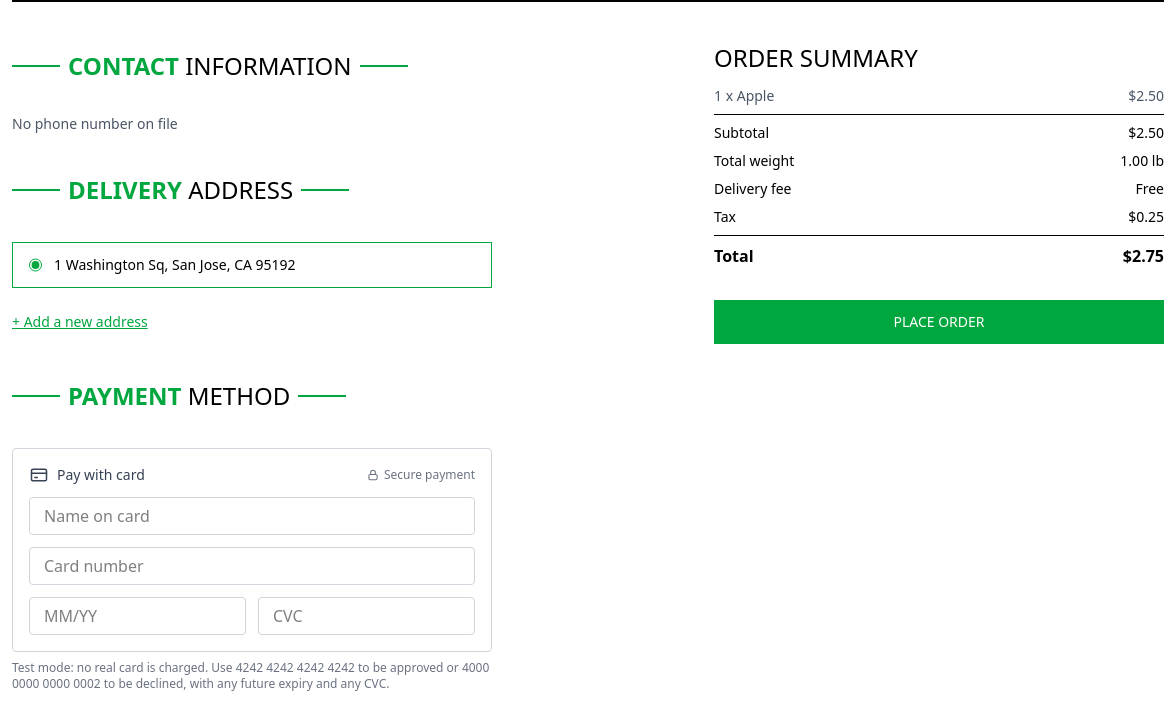
Scenario: Checkout › saving a new address handles rejection=false
The image size is (1176, 720).
Expected: the button "PLACE ORDER" is enabled, [714,300,1164,344]
Click the button "+ Add a new address".
click(80, 322)  # box [12,312,148,332]
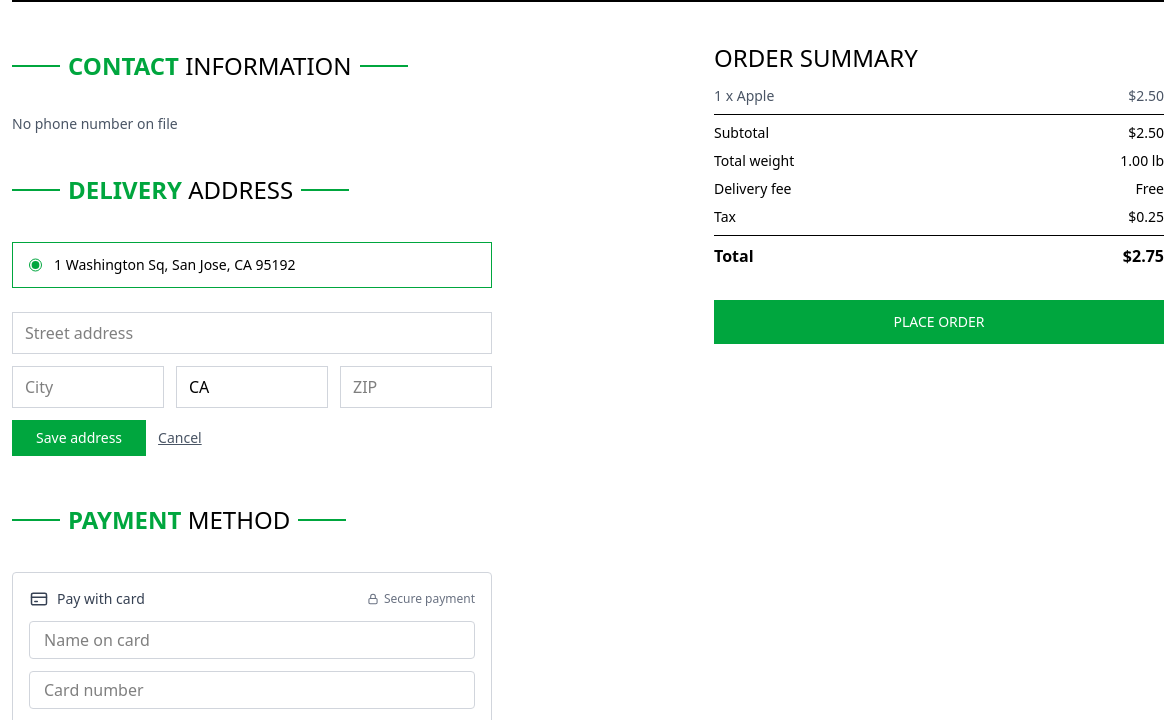
Type "123 Main St" into the field with placeholder "Street address".
click(252, 333); type("123 Main St")  # box [12,312,492,354]
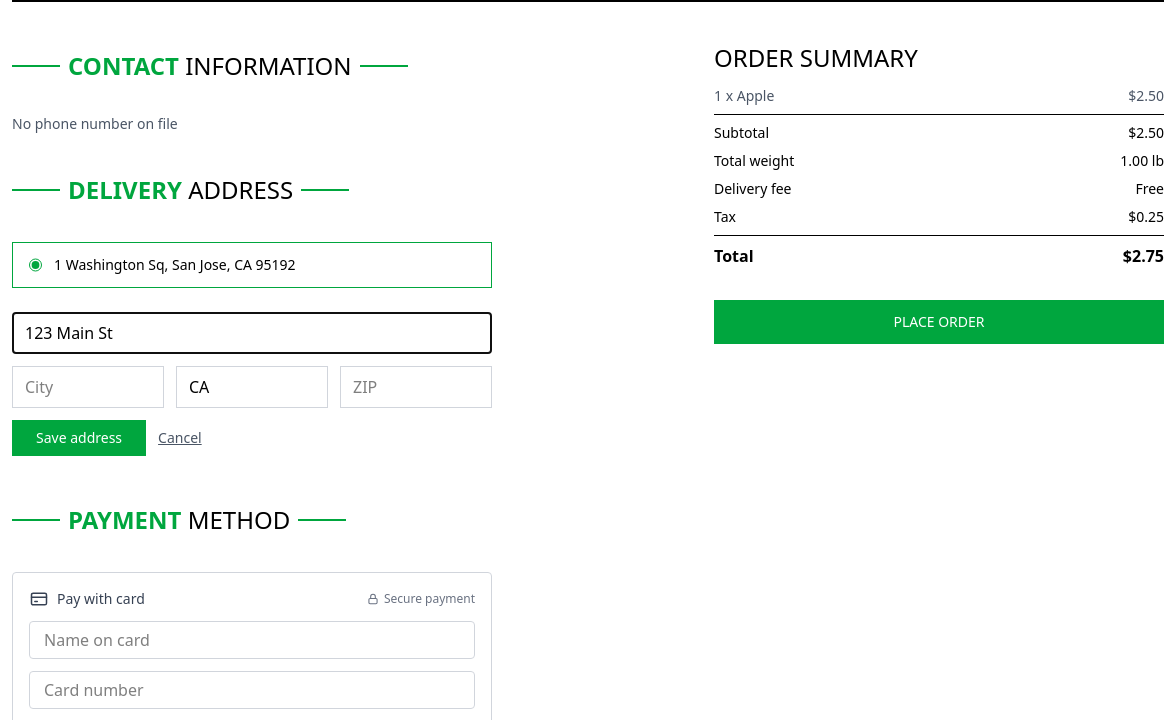
Type "San Jose" into the field with placeholder "City".
click(88, 387); type("San Jose")  # box [12,366,164,408]
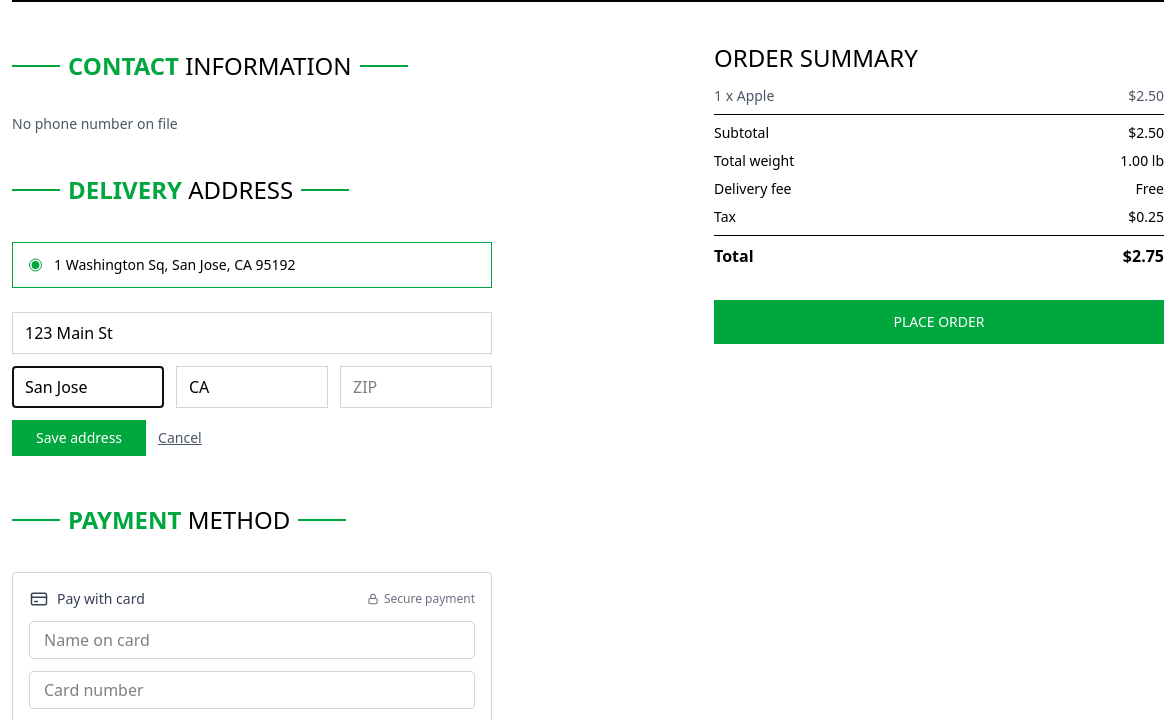
Type "95112" into the field with placeholder "ZIP".
click(416, 387); type("95112")  # box [340,366,492,408]
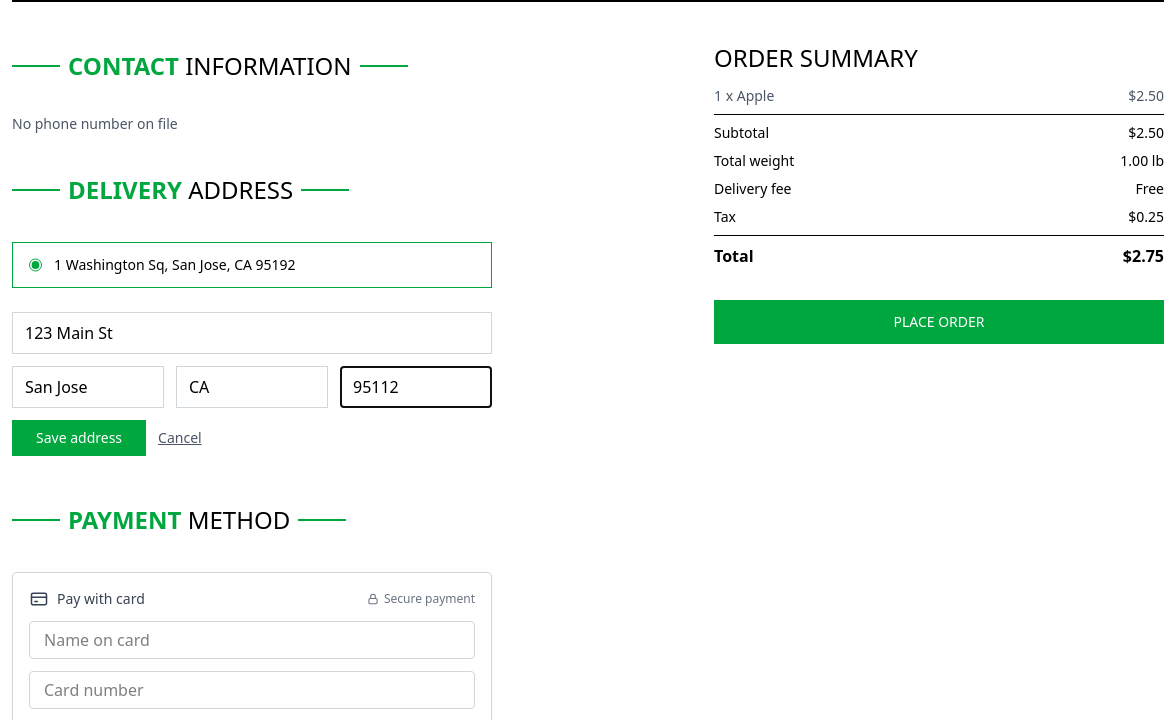
Click the button "Save address".
click(79, 438)  # box [12,420,146,456]
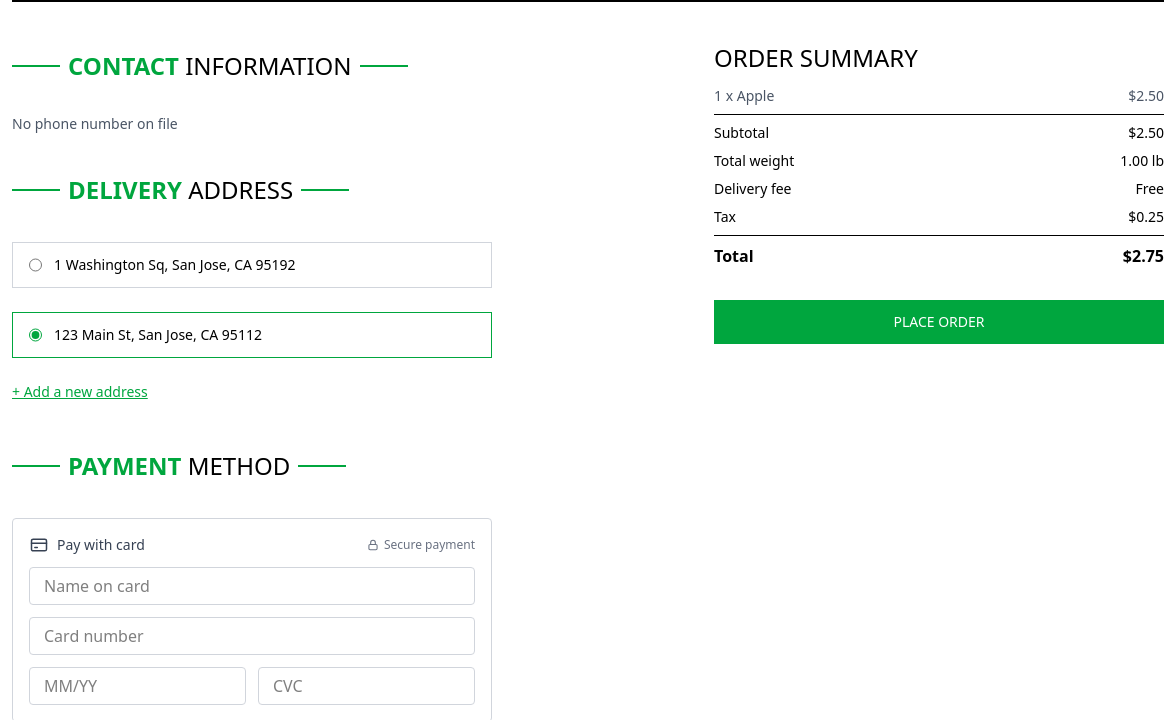
Expected: the field with placeholder "Street address" is not shown
Expected: the text "123 Main St, San Jose, CA 95112" is shown, [54,325,262,345]
Expected: the radio button labelled "123 Main St, San Jose, CA 95112" is checked, [29,325,42,345]
